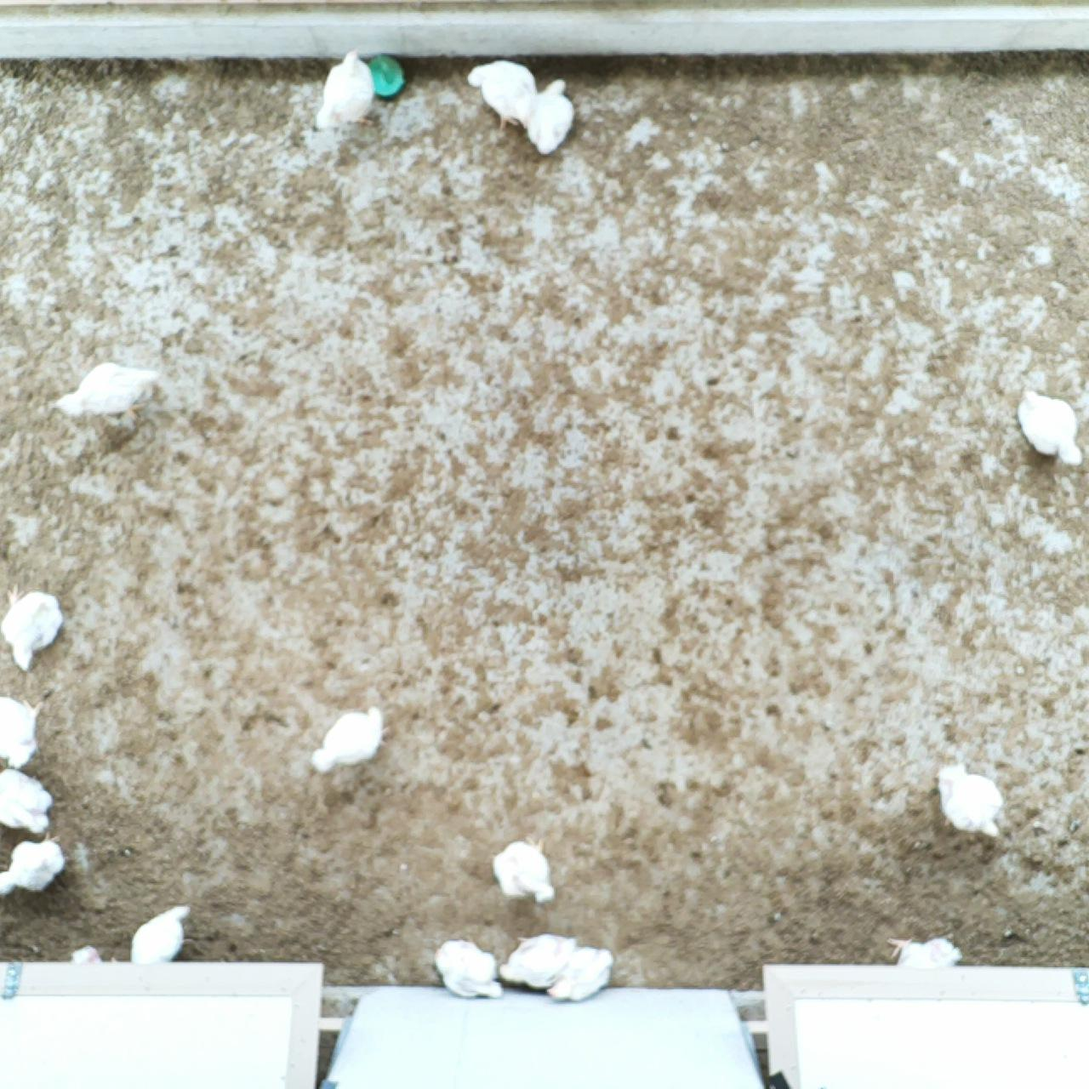chicken: (50, 357, 159, 426), (308, 700, 395, 778), (0, 579, 68, 675), (932, 756, 1008, 841), (1013, 387, 1089, 468), (430, 927, 506, 1004), (468, 54, 541, 134), (310, 49, 379, 133), (883, 929, 966, 995), (497, 926, 581, 991), (122, 898, 193, 971), (516, 70, 573, 156), (0, 831, 66, 903), (495, 832, 556, 906), (542, 944, 613, 1005), (0, 758, 52, 835), (57, 935, 118, 996), (0, 693, 42, 767)
